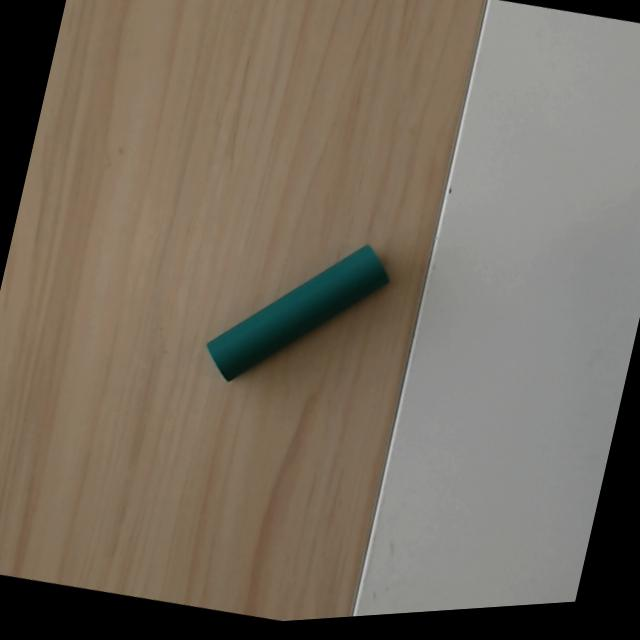Silinder-Hijau-10025: (203, 242, 391, 382)
